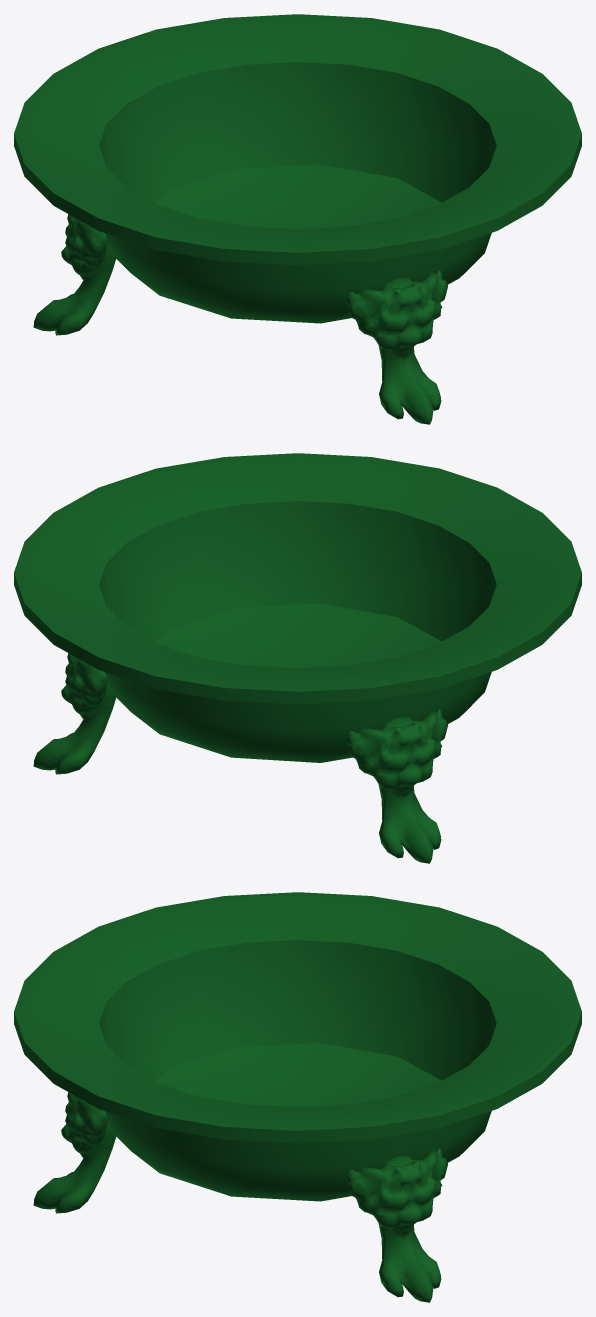
Rendered from low_all_1.fbx.
3 views of the same model, one above another, from view 1: azimuth 30°, elevation 25°; view 2: azimuth 150°, elevation 25°; view 3: azimuth 270°, elevation 25° (orthographic).
Visible parts, largest first — view 1: HL_001; view 2: HL_001; view 3: HL_001.
Boxes of the visible parts, x1,y1,x2,y2 form: HL_001: (14, 14, 581, 424); HL_001: (14, 453, 581, 863); HL_001: (14, 892, 581, 1302).
Bounding box in the file's own units: 99.51 × 38.02 × 100.
